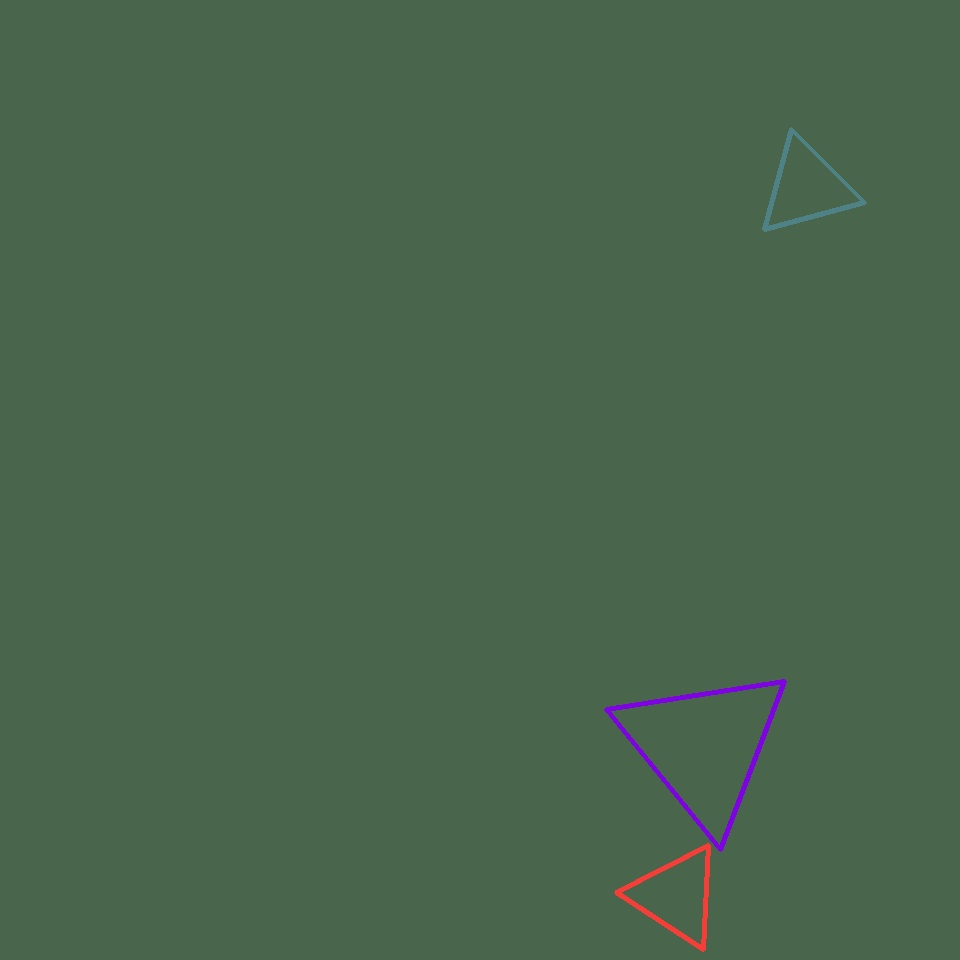circle: (615, 663, 793, 831), (757, 137, 857, 237), (630, 844, 722, 948)
